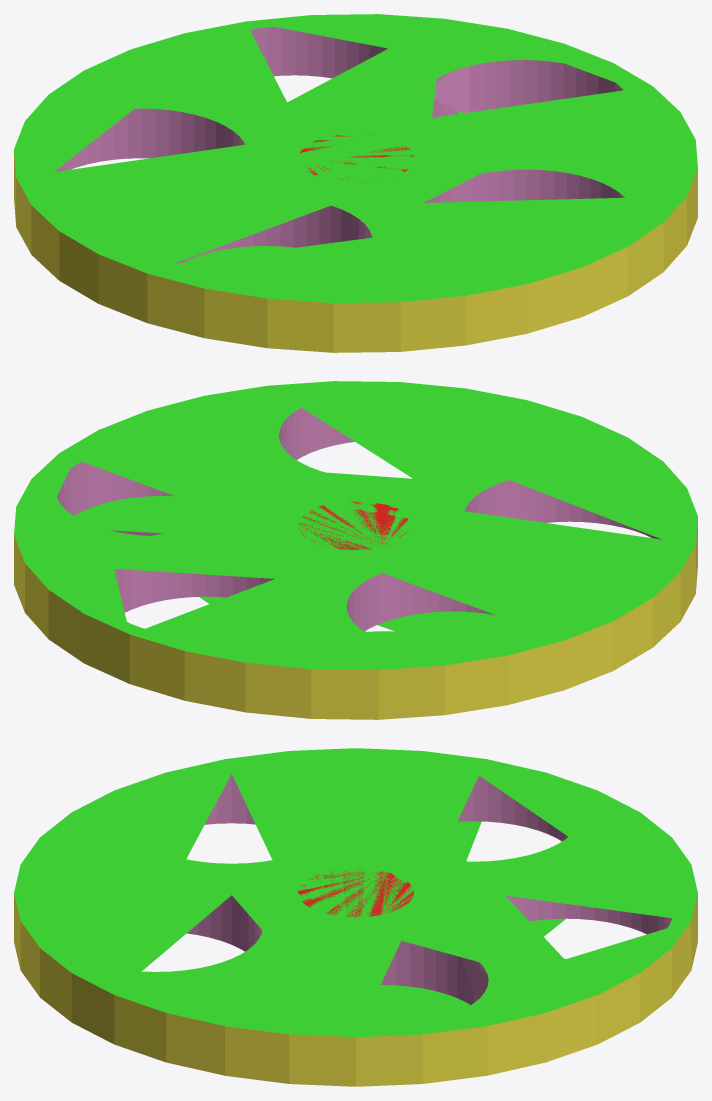
File: colorfulholes.fbx
3 views of the same model, one above another, from view 1: azimuth 30°, elevation 25°; view 2: azimuth 150°, elevation 25°; view 3: azimuth 270°, elevation 25° (orthographic).
Visible parts, largest first — view 1: 柱体.002; view 2: 柱体.002; view 3: 柱体.002.
Part boxes in pixels (x1=…): 柱体.002: x1=14, y1=14, x2=697, y2=352; 柱体.002: x1=14, y1=381, x2=697, y2=719; 柱体.002: x1=14, y1=748, x2=697, y2=1086.
Size of the model in its own units: 2500 by 200 by 2500.
